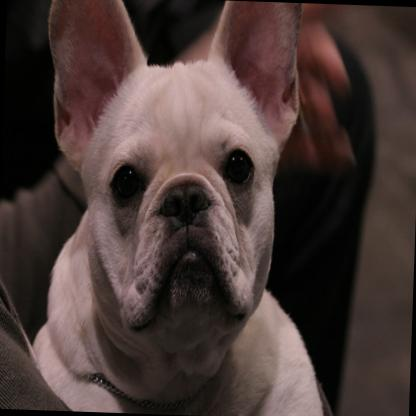French_bulldog: (25, 0, 344, 416)
